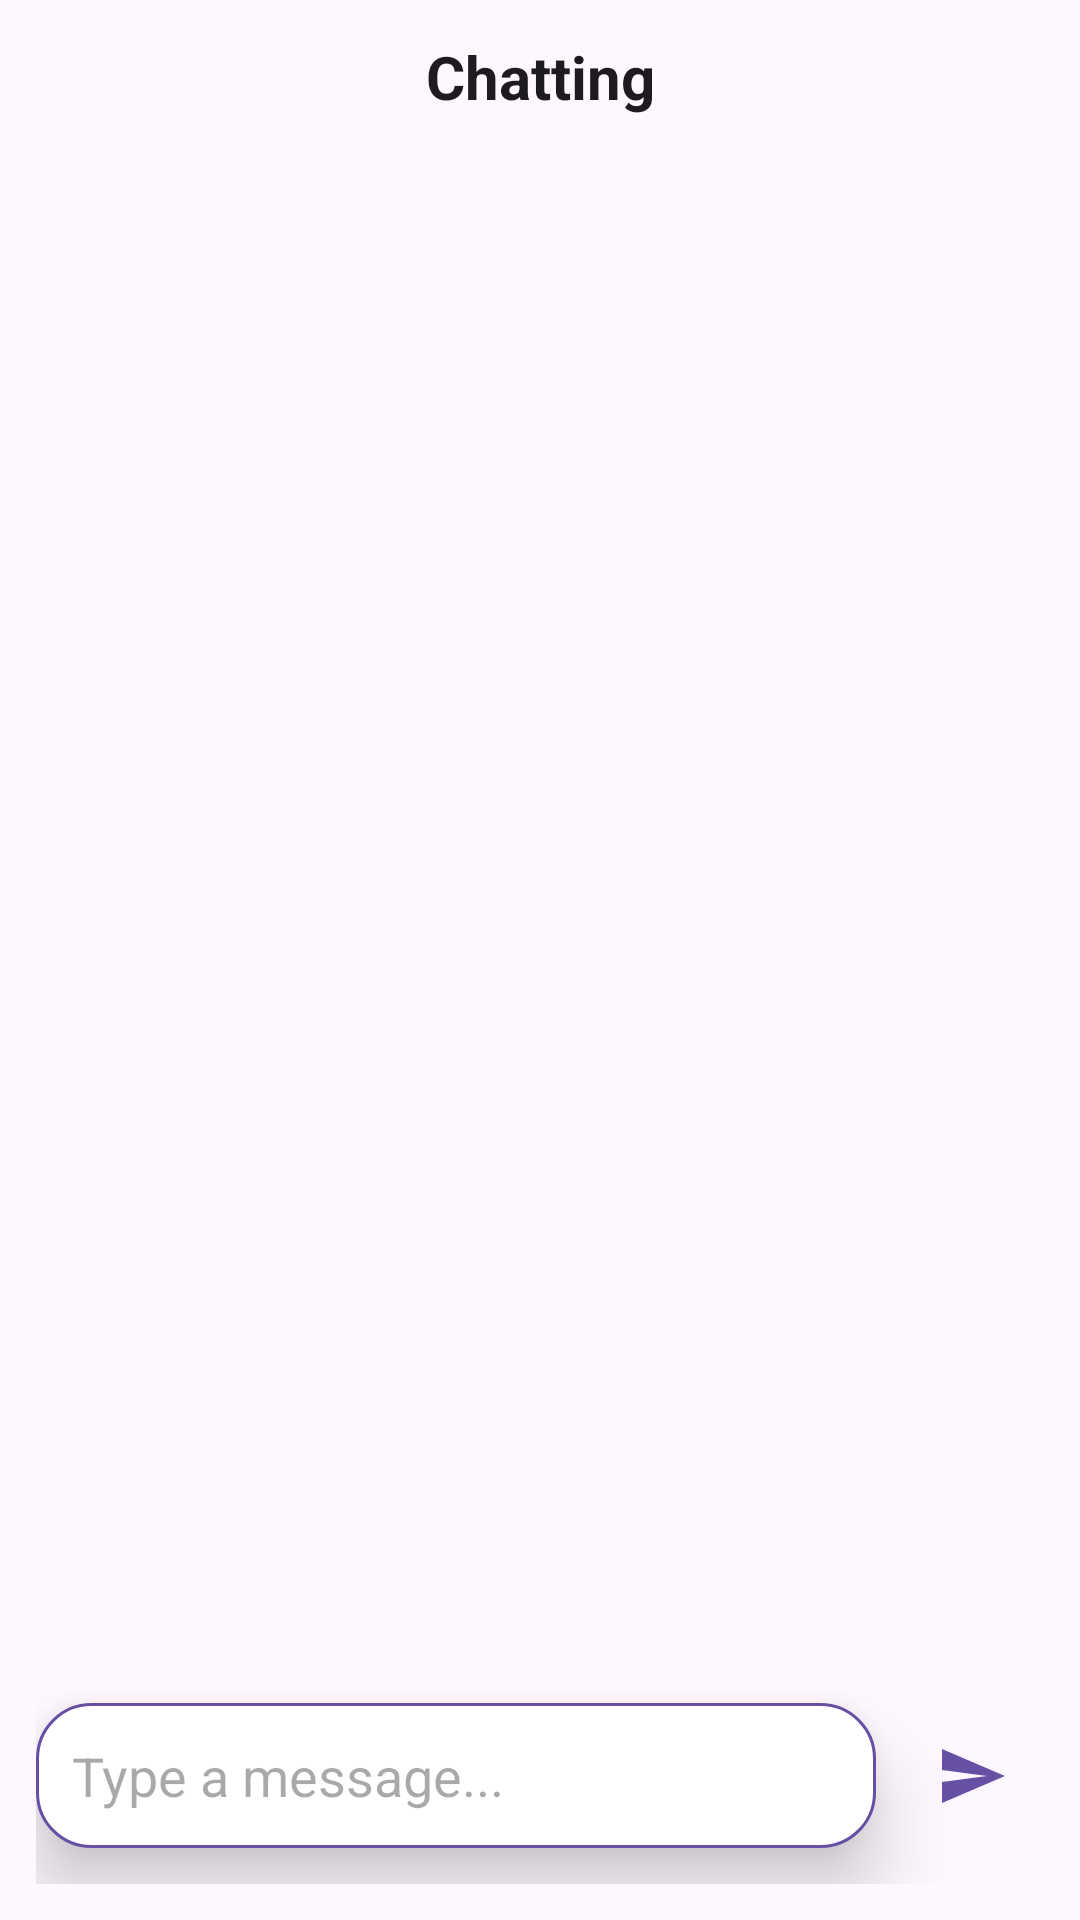

Icons on this 1080 x 1920 Android screen, each with the point to tap as point (x, y):
Send: point (973, 1776)
